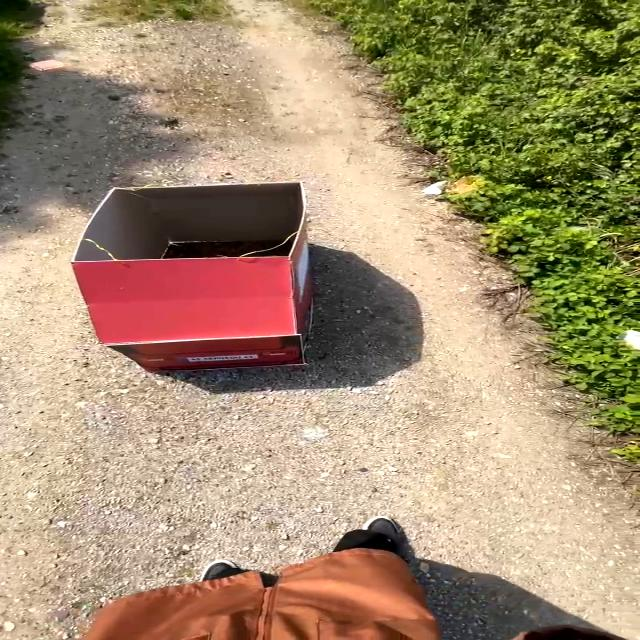red_car: (62, 178, 365, 383)
